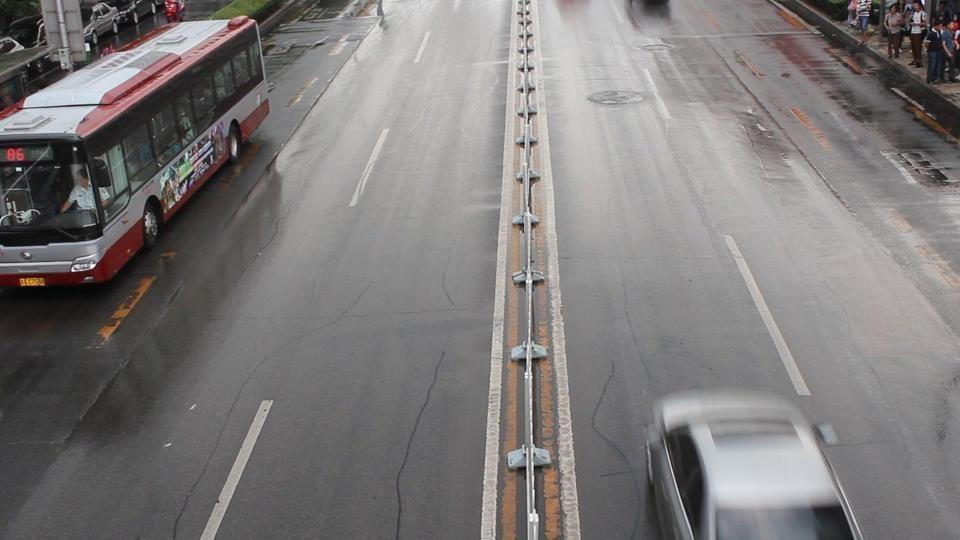car: (642, 387, 860, 538)
